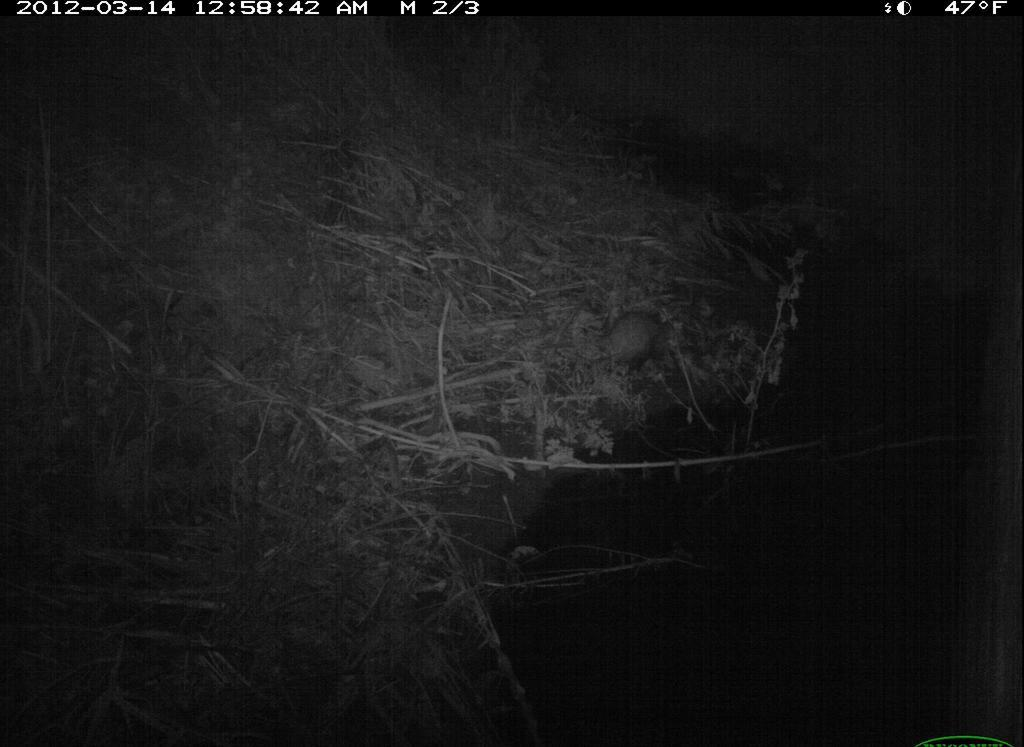opossum: (593, 305, 698, 381)
